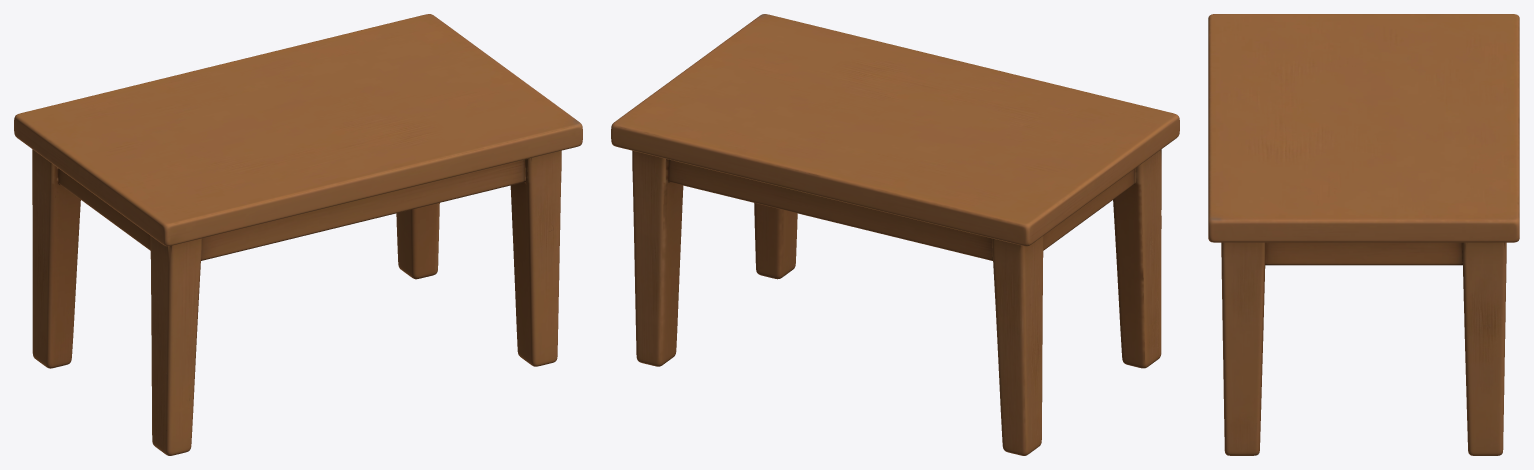
Rendered from table-1.glb.
3 renders of one model, left to right at view 1: azimuth 30°, elevation 25°; view 2: azimuth 150°, elevation 25°; view 3: azimuth 270°, elevation 25°, orthographic.
Visible parts, largest first — view 1: node_0; view 2: node_0; view 3: node_0.
Part boxes in pixels (x1,y1,x2,y2): node_0: (14, 14, 582, 455); node_0: (611, 14, 1179, 455); node_0: (1208, 14, 1519, 455).
Bounding box in the file's own units: 0.9285 × 0.5106 × 0.5876.
1 material, 1 textured.
